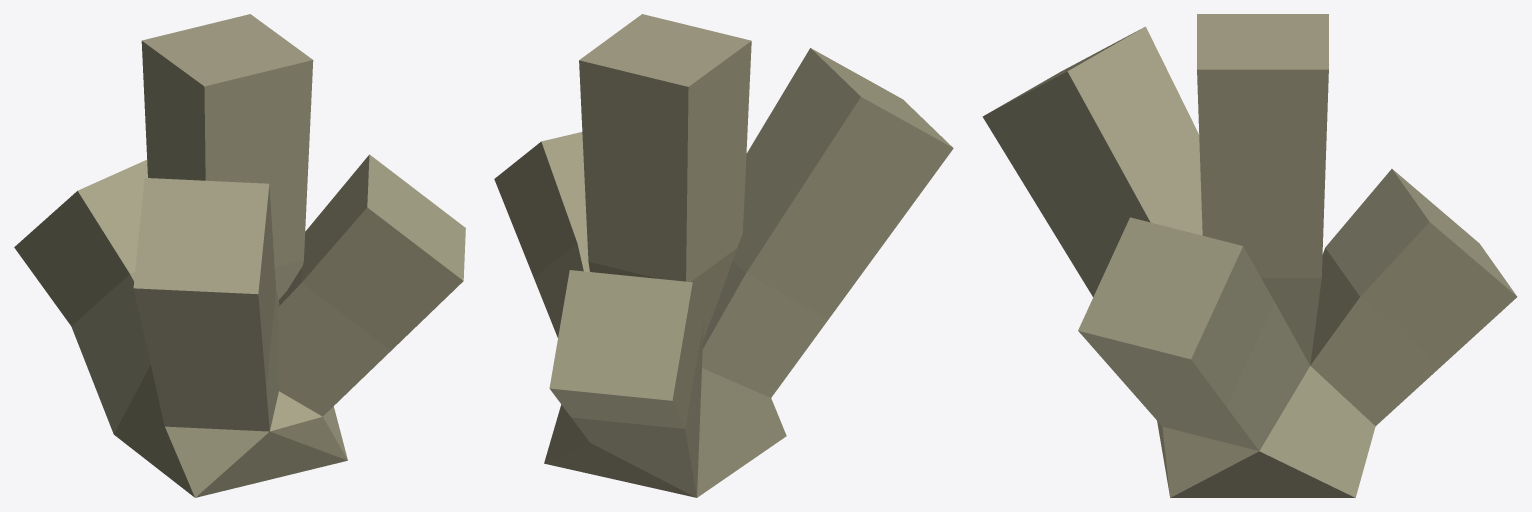
The model's file is Hierro 1.glb.
3 renders of one model, left to right at view 1: azimuth 30°, elevation 25°; view 2: azimuth 150°, elevation 25°; view 3: azimuth 270°, elevation 25°, orthographic. The views are drawn at different scales.
Parts seen in each view (by area): view 1: Plane; view 2: Plane; view 3: Plane.
Part boxes in pixels (x1,y1,x2,y2): Plane: (14,14,465,497); Plane: (494,14,953,497); Plane: (982,14,1517,497).
Size of the model in its own units: 4.84 by 4.65 by 5.41.
